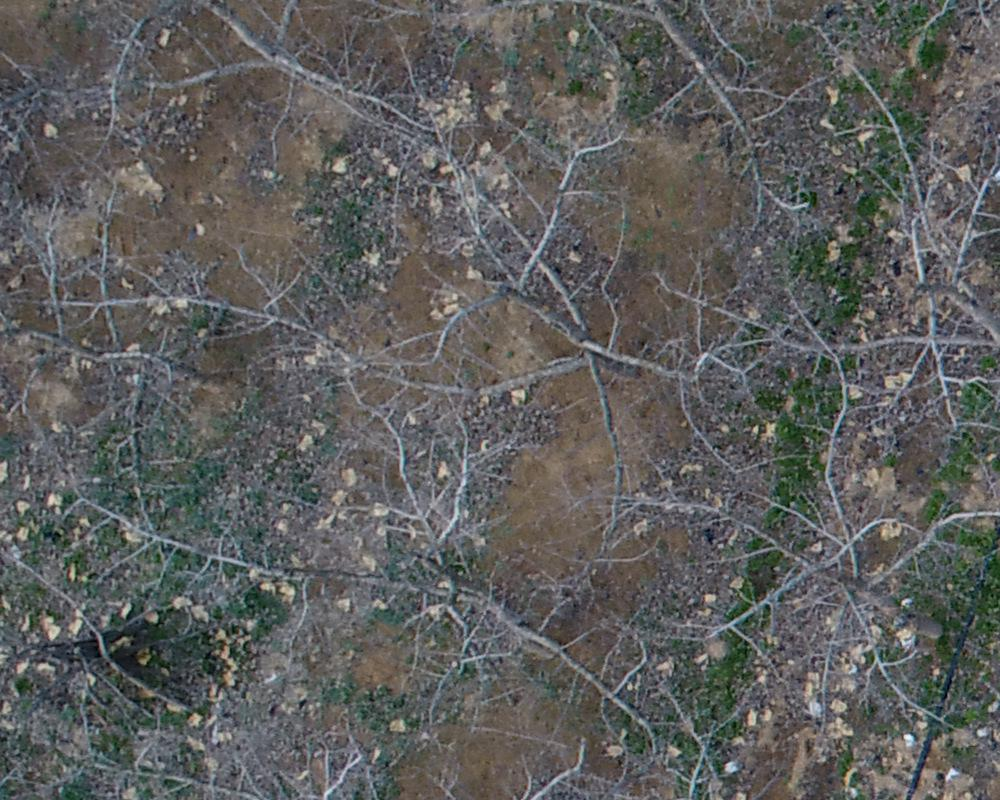apple: (50, 370, 677, 768), (321, 55, 736, 552), (624, 270, 990, 756), (678, 26, 990, 488), (411, 10, 815, 228)
